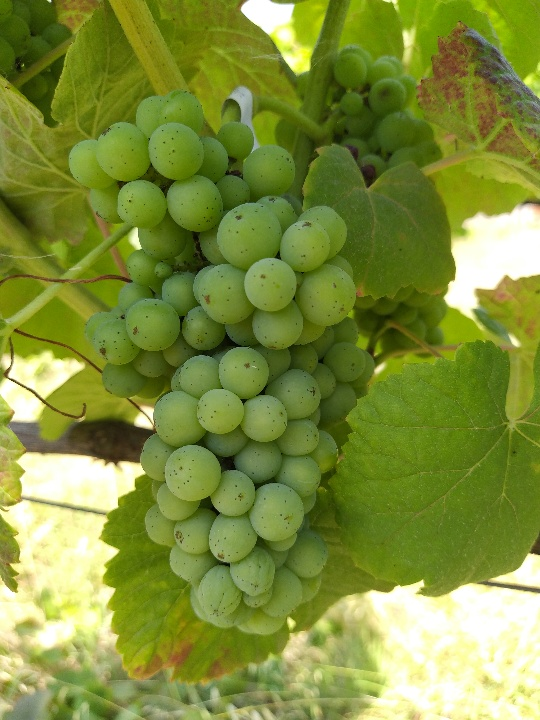grape: (67, 84, 380, 639)
